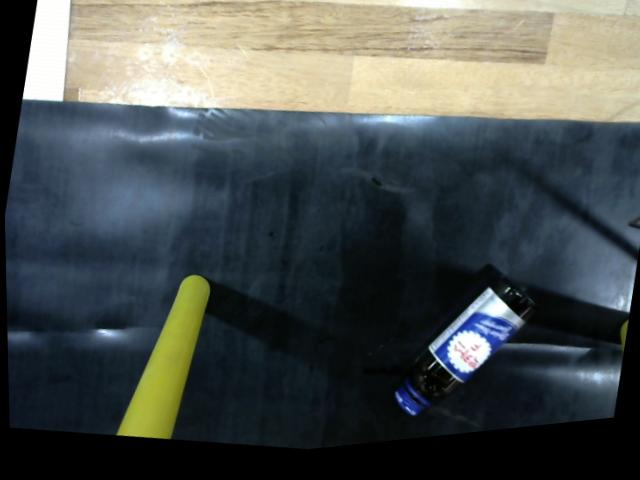glass: (376, 267, 546, 435)
